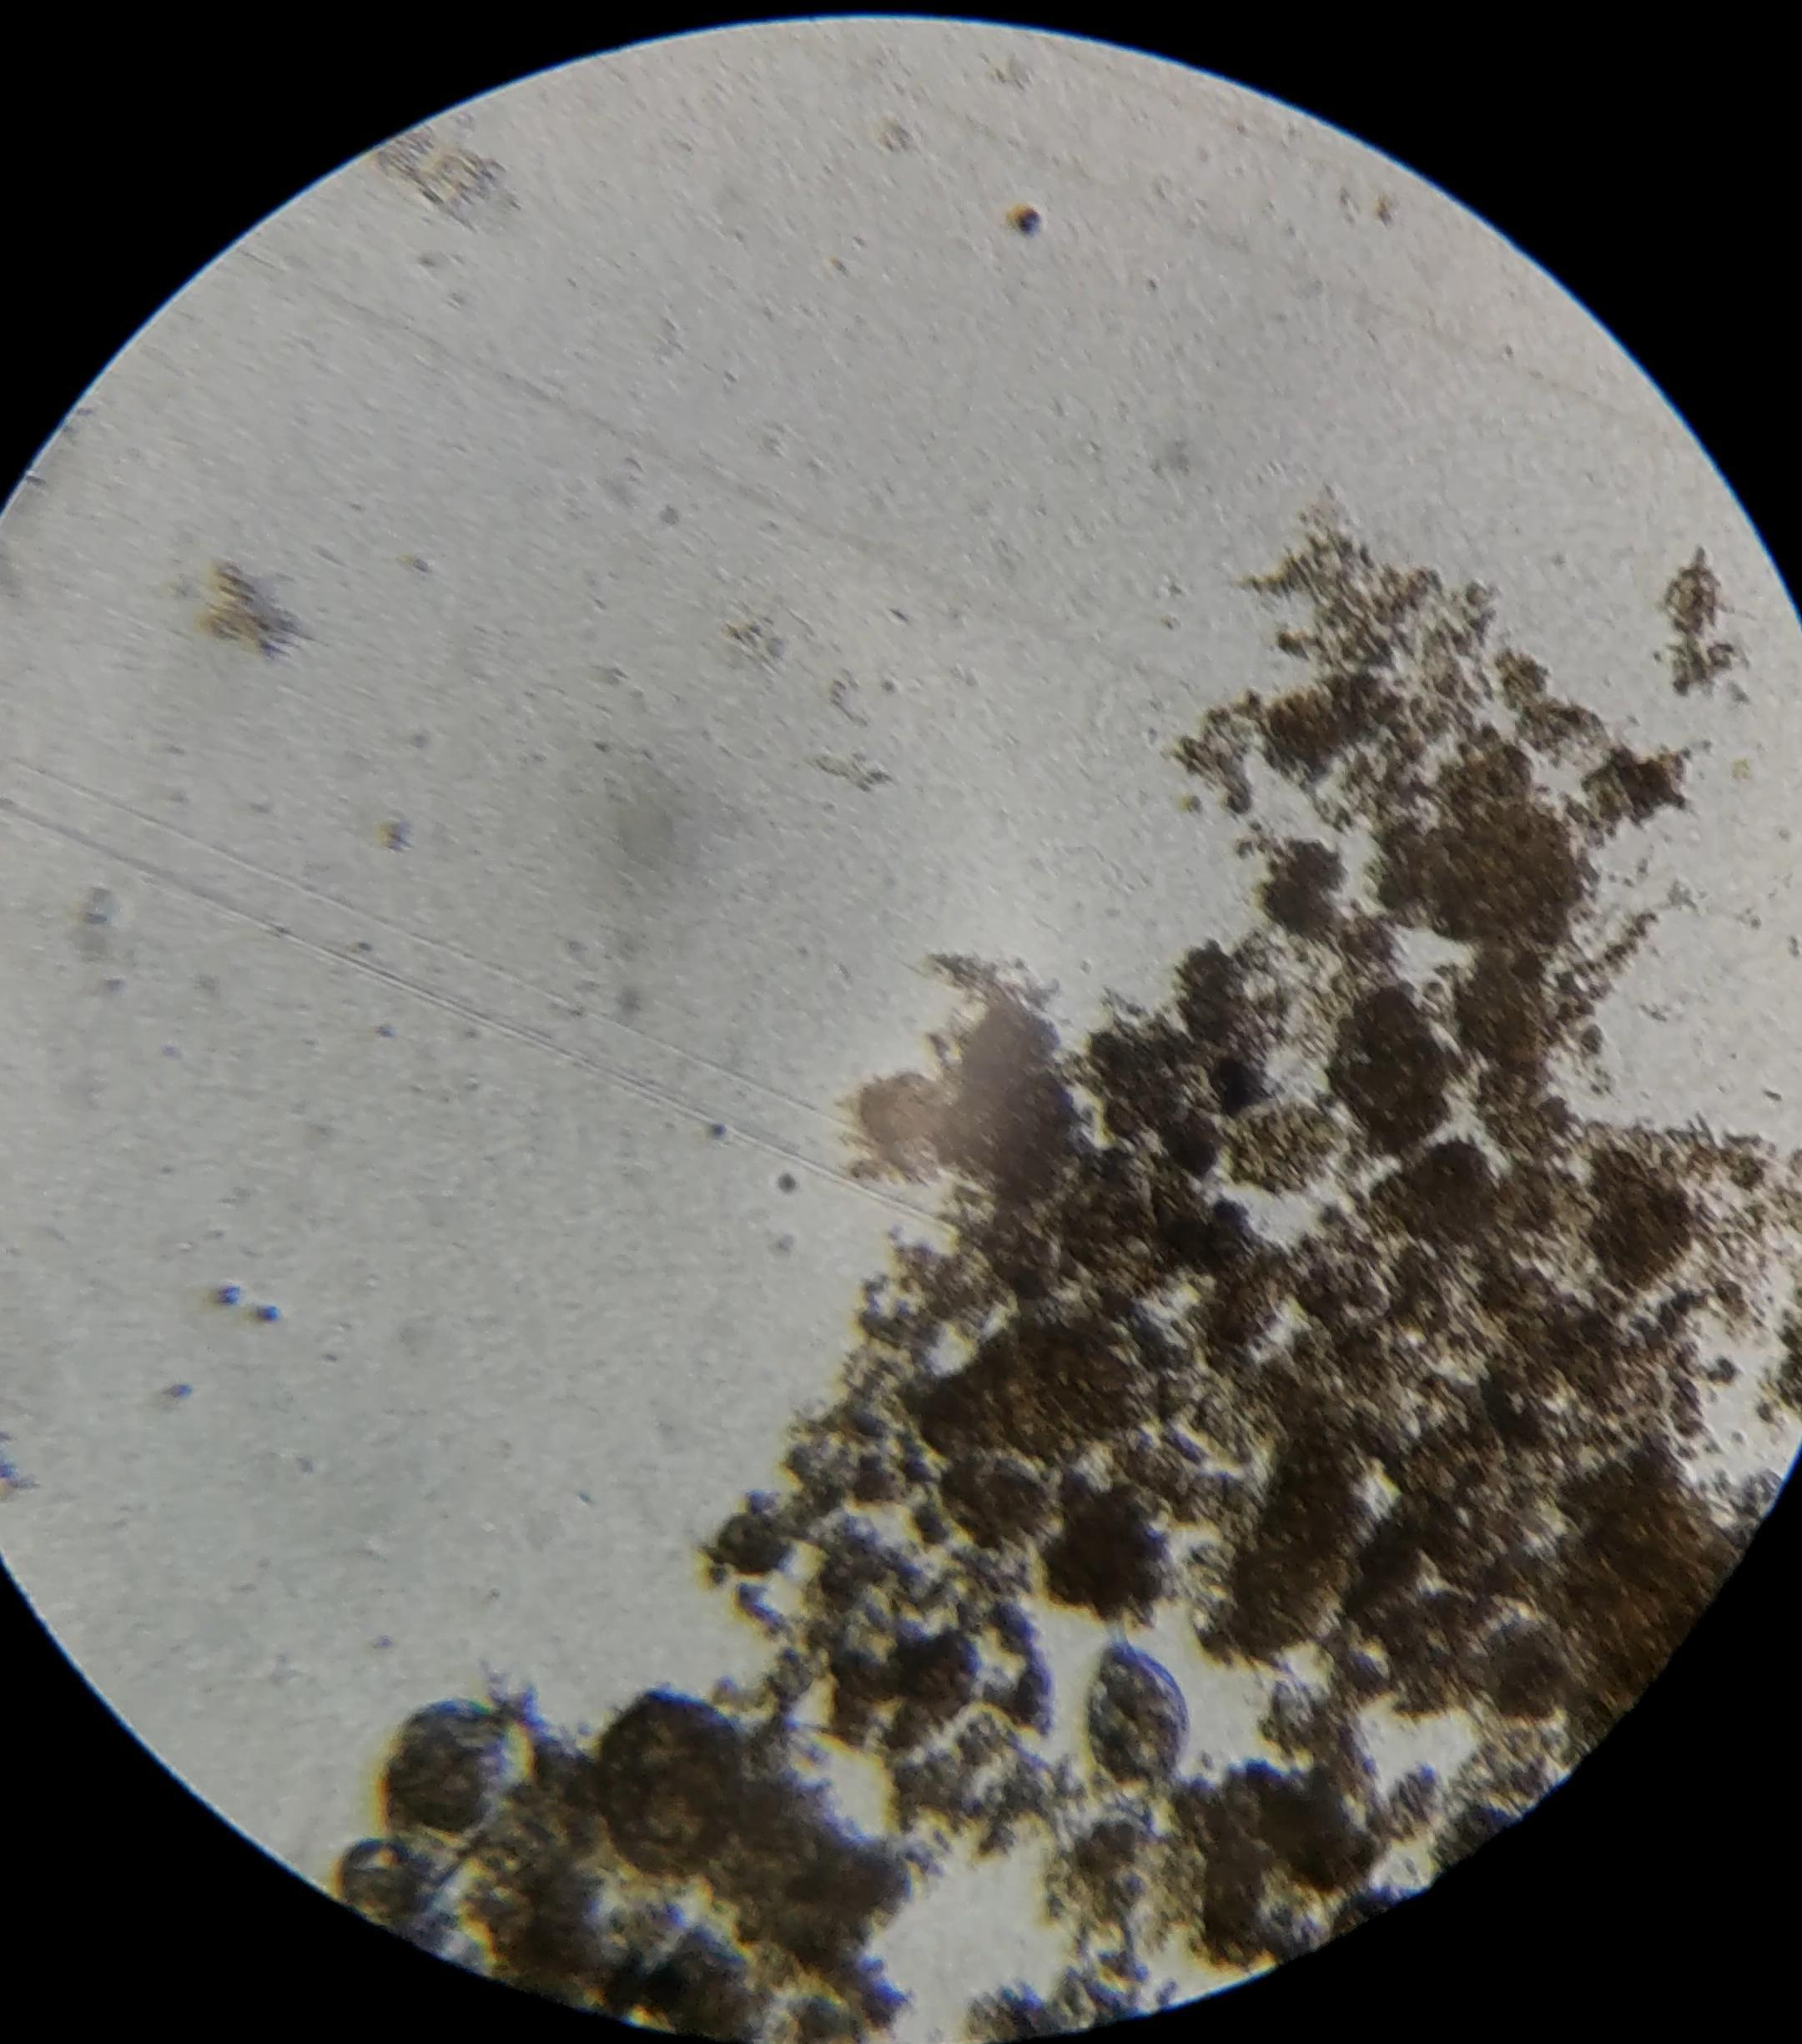Arcella: (602, 1696, 737, 1877)
Mo: (386, 1689, 532, 1887), (1085, 1573, 1186, 1804)
